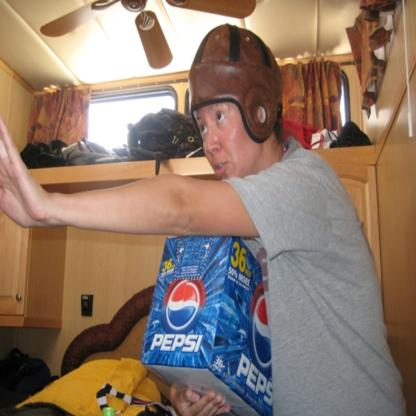Helmet: (185, 25, 286, 170)
